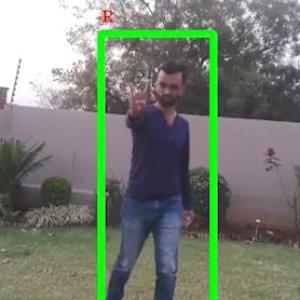takeoff-hand: (121, 78, 151, 118)
